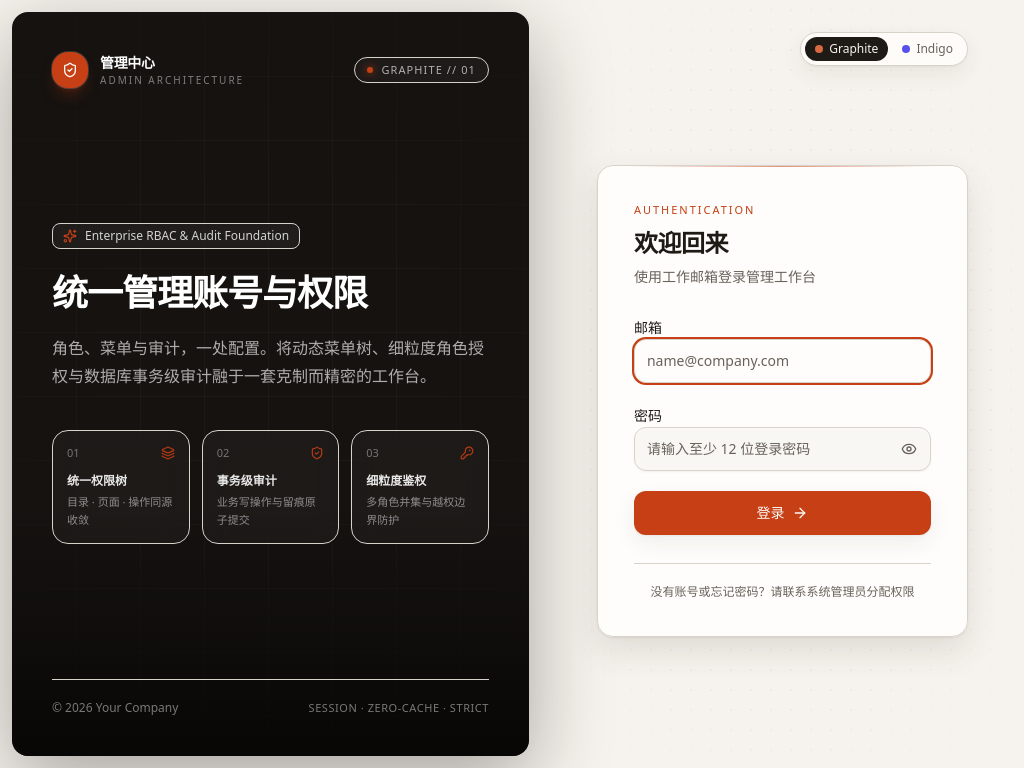
Scenario: login page › announces a generic login error
Type "admin@example.com" into the field labelled "邮箱". click: (782, 361)
box: [634,339,931,383]
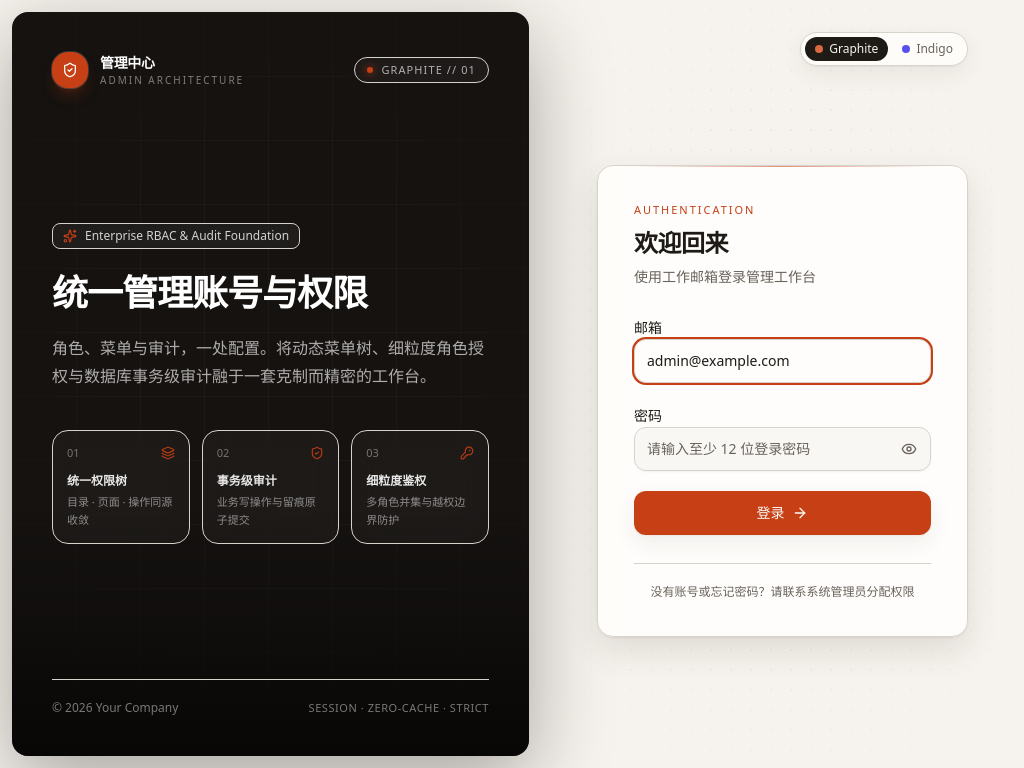
Type "wrong-password-1" into the password field labelled "密码". click: (782, 449)
box: [634,427,931,471]
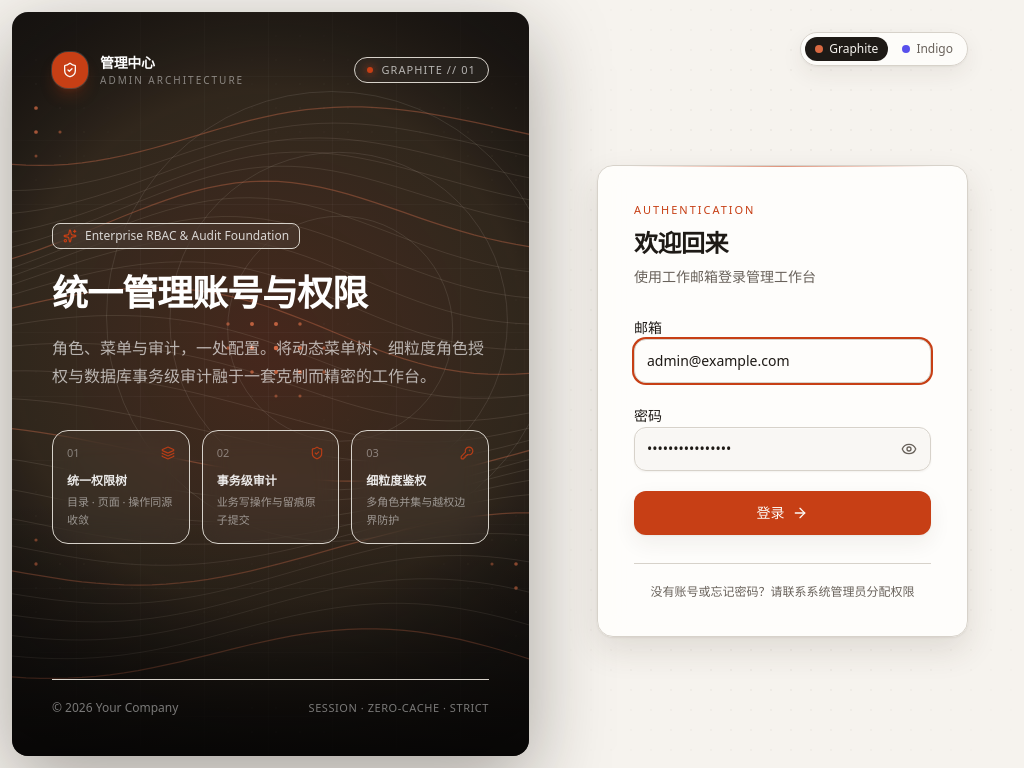
Click the button "登录". click: click(782, 513)
box: [634,491,931,535]
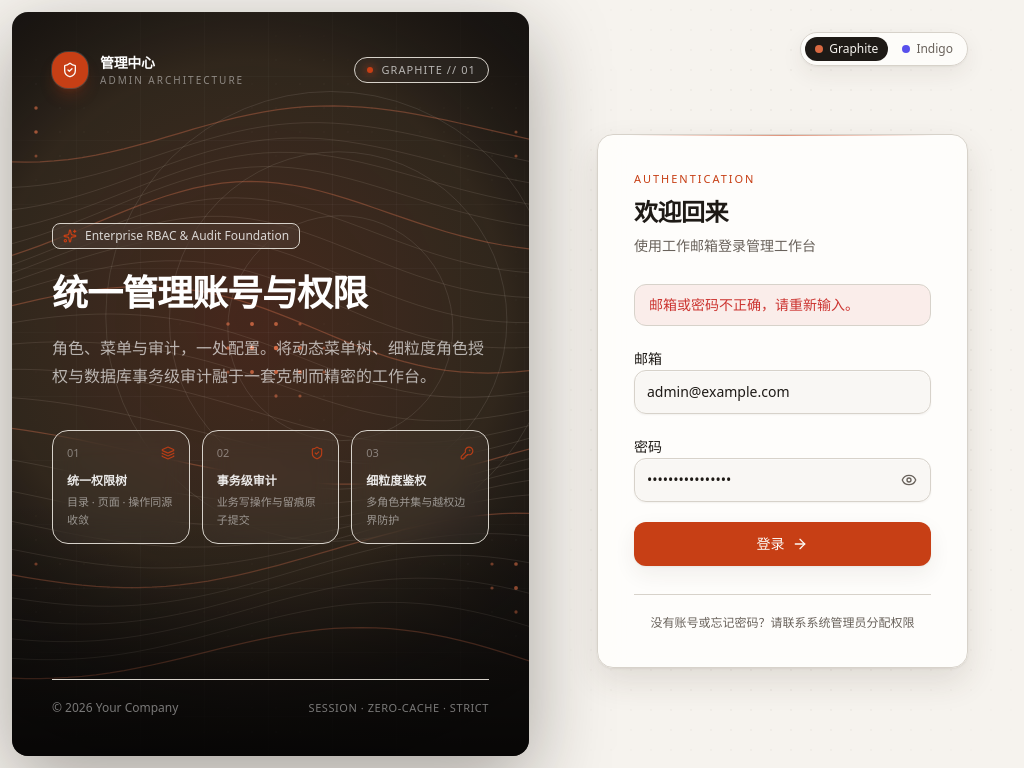
Now the message shows "邮箱或密码不正确", box [649,295,859,314]
